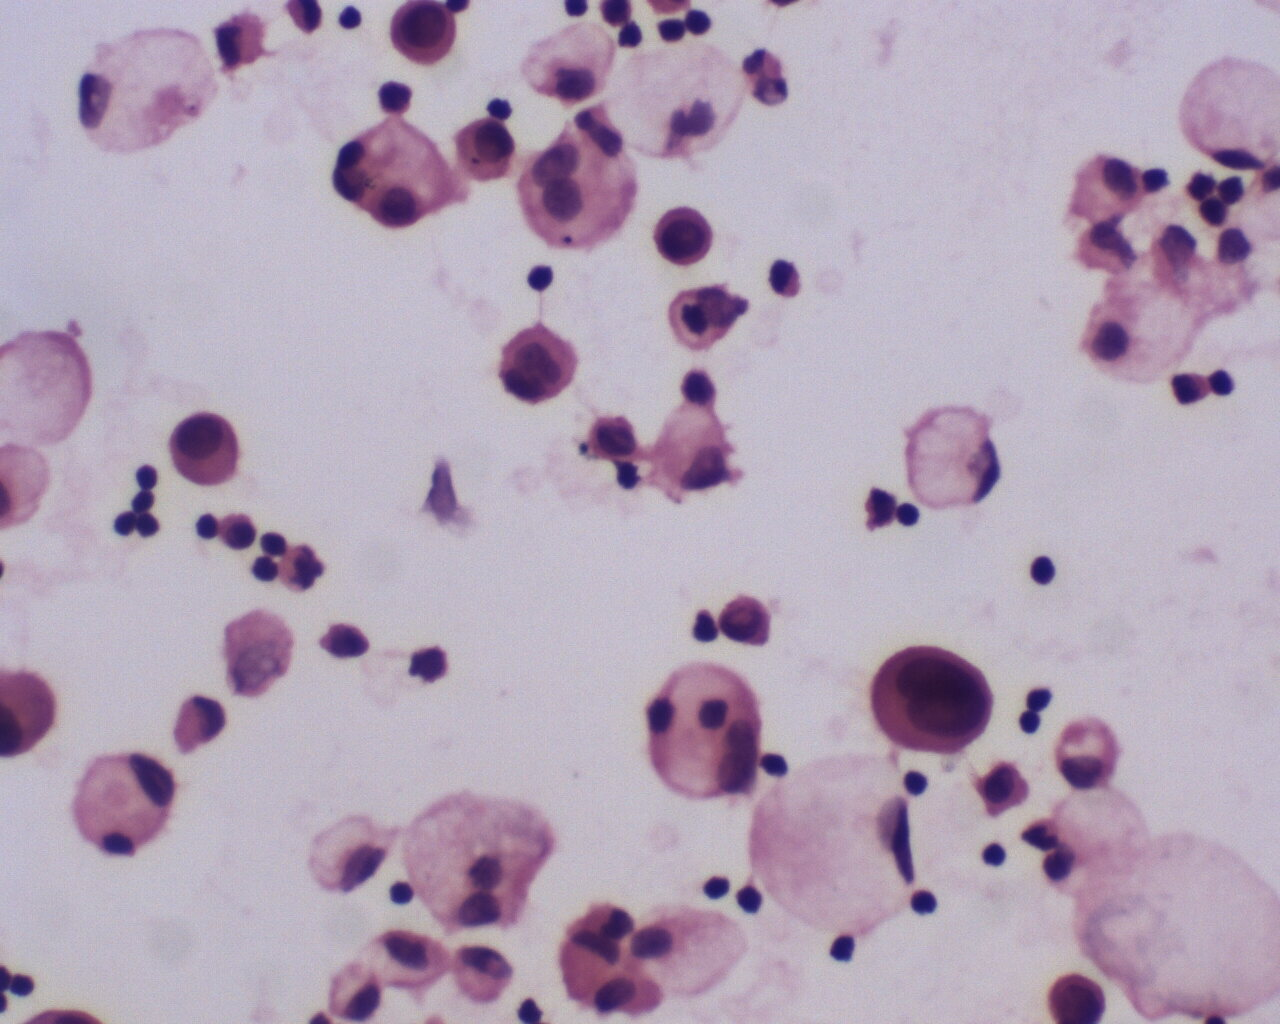ab: (865, 631, 994, 761), (377, 1, 464, 69), (451, 118, 517, 189), (653, 204, 717, 270)
histo: (751, 748, 920, 940), (79, 26, 226, 160), (1171, 48, 1280, 170), (901, 389, 1002, 519), (71, 747, 180, 859)
lymph: (1013, 549, 1061, 594), (699, 868, 738, 907), (975, 838, 1016, 875)
meso: (165, 412, 245, 492)
